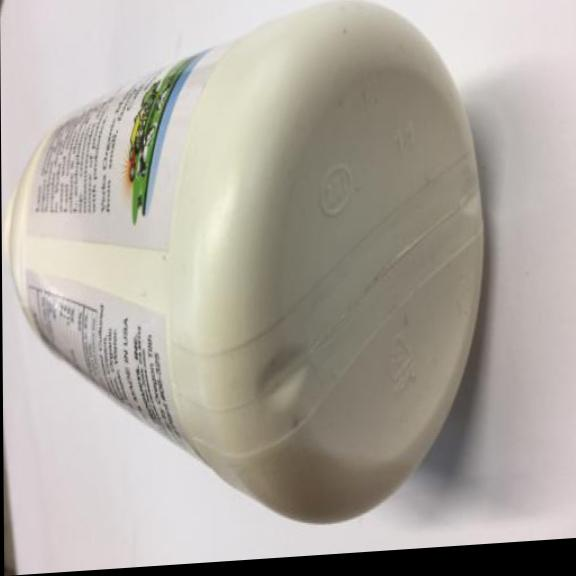Plastik: (11, 0, 494, 551)
